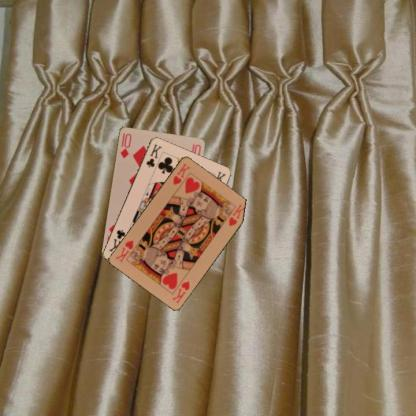10d: (118, 130, 132, 160)
Kc: (144, 141, 164, 168)
Kh: (170, 160, 192, 186), (170, 278, 192, 304)
